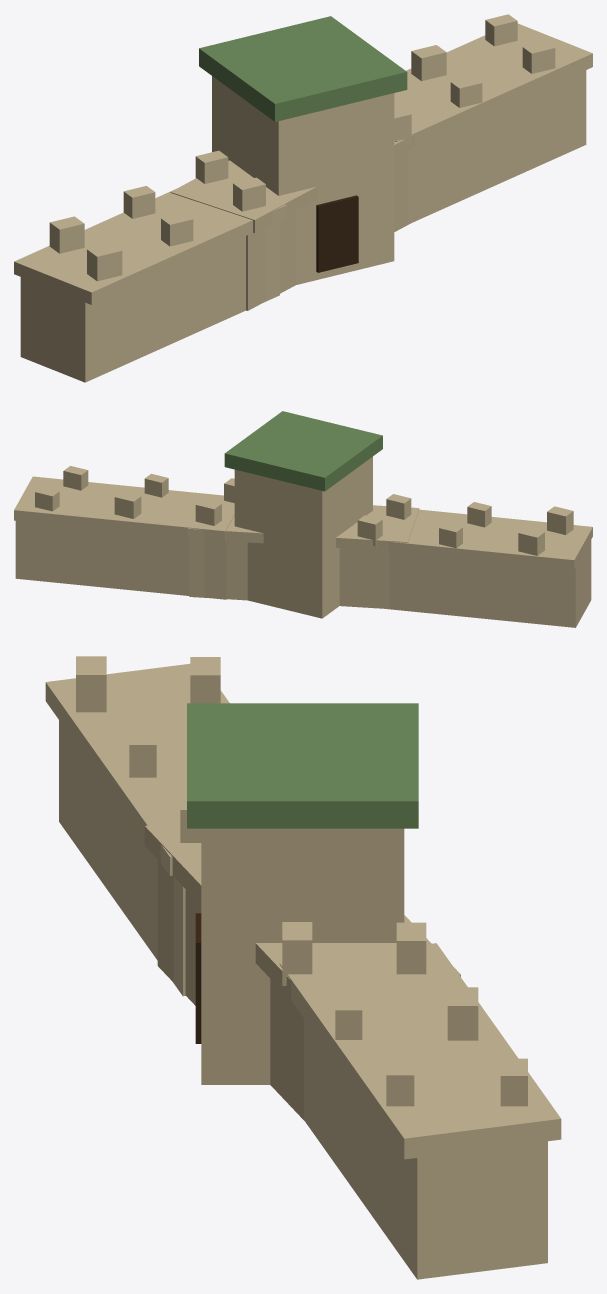
File: improvement_great_wall.fbx
The picture shows the model from 3 angles, top to bottom: view 1: azimuth 30°, elevation 25°; view 2: azimuth 150°, elevation 25°; view 3: azimuth 270°, elevation 25°; orthographic projection. The views are drawn at different scales.
Parts seen in each view (by area): view 1: improvement_great_wall_gwall_00, improvement_great_wall_gwroof_01, improvement_great_wall_gwdoor_02; view 2: improvement_great_wall_gwall_00, improvement_great_wall_gwroof_01; view 3: improvement_great_wall_gwall_00, improvement_great_wall_gwroof_01, improvement_great_wall_gwdoor_02.
Part boxes in pixels (x1,y1,x2,y2): improvement_great_wall_gwall_00: (14, 14, 592, 382); improvement_great_wall_gwroof_01: (199, 16, 407, 121); improvement_great_wall_gwdoor_02: (316, 195, 358, 272); improvement_great_wall_gwall_00: (14, 456, 592, 627); improvement_great_wall_gwroof_01: (224, 411, 382, 491); improvement_great_wall_gwall_00: (45, 656, 561, 1279); improvement_great_wall_gwroof_01: (187, 703, 418, 828); improvement_great_wall_gwdoor_02: (195, 913, 201, 1043).
Size of the model in its own units: 169 by 47.7 by 76.78.
